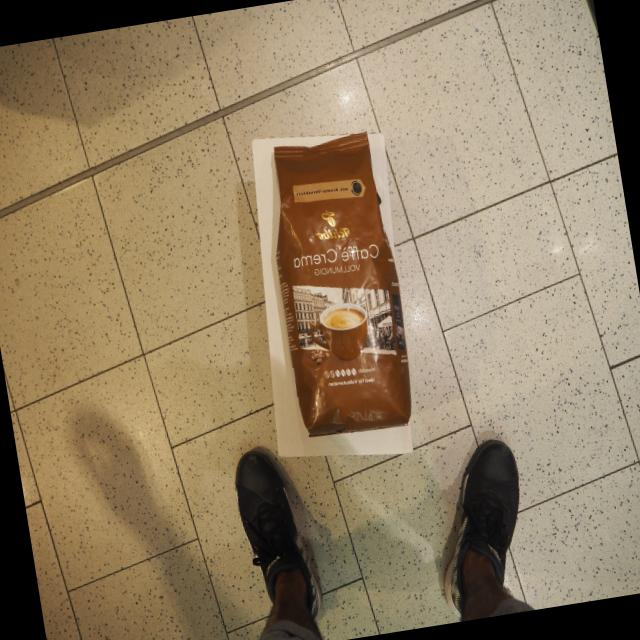CC Vollmundig 36 Pads: (255, 127, 422, 442)
